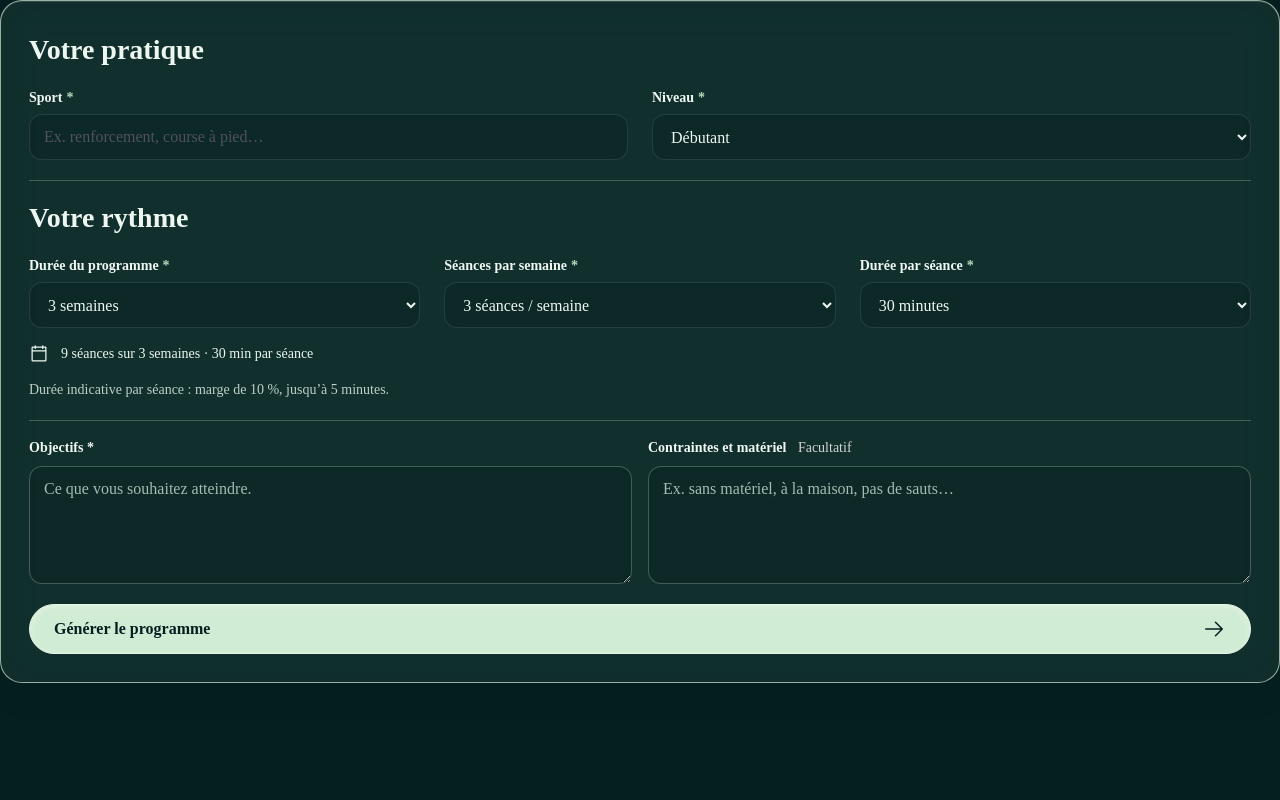
it: formulaires metier › affiche l erreur metier renvoyee pendant une generation de programme
The width and height of the screenshot is (1280, 800).
Click the button "Générer le programme" at (132, 628), box top-left (29, 604), bottom-right (1251, 654)
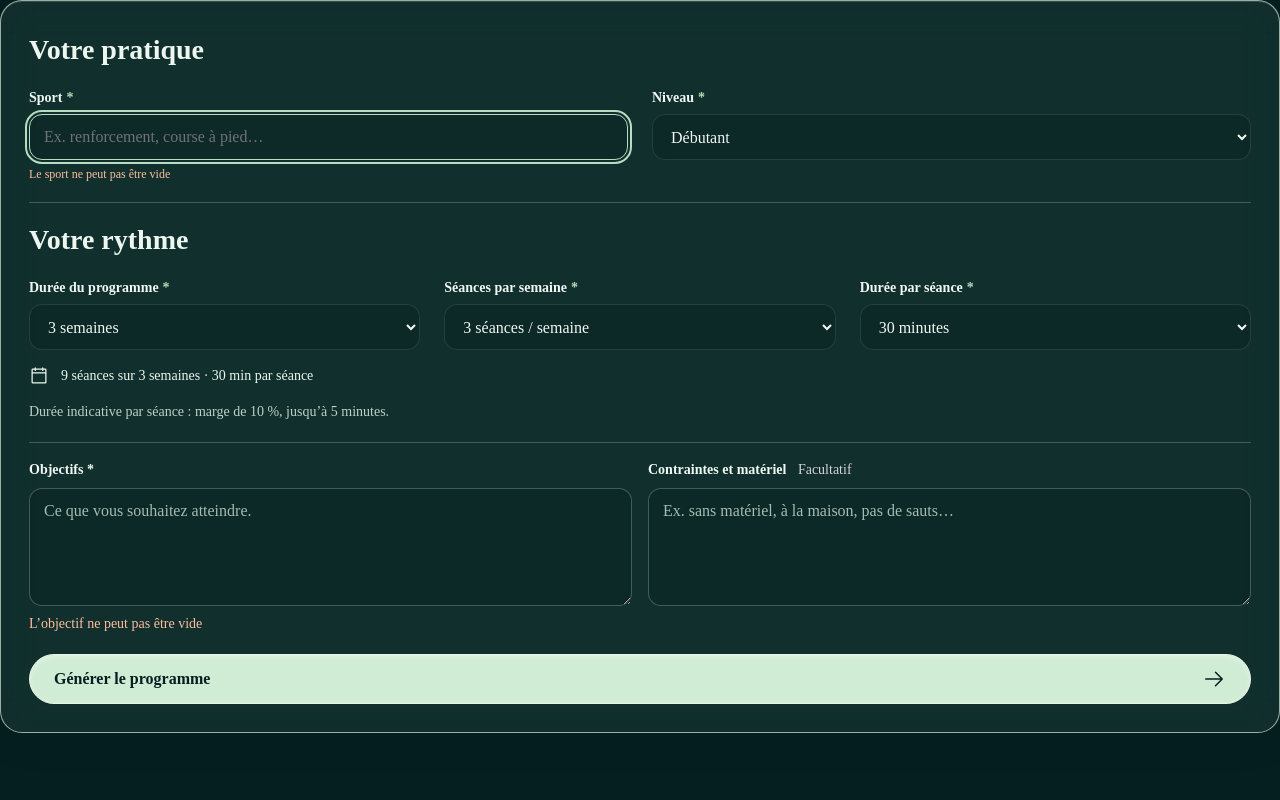
Type "natation" into the field labelled "Sport*" at (328, 137), box top-left (29, 114), bottom-right (628, 160)
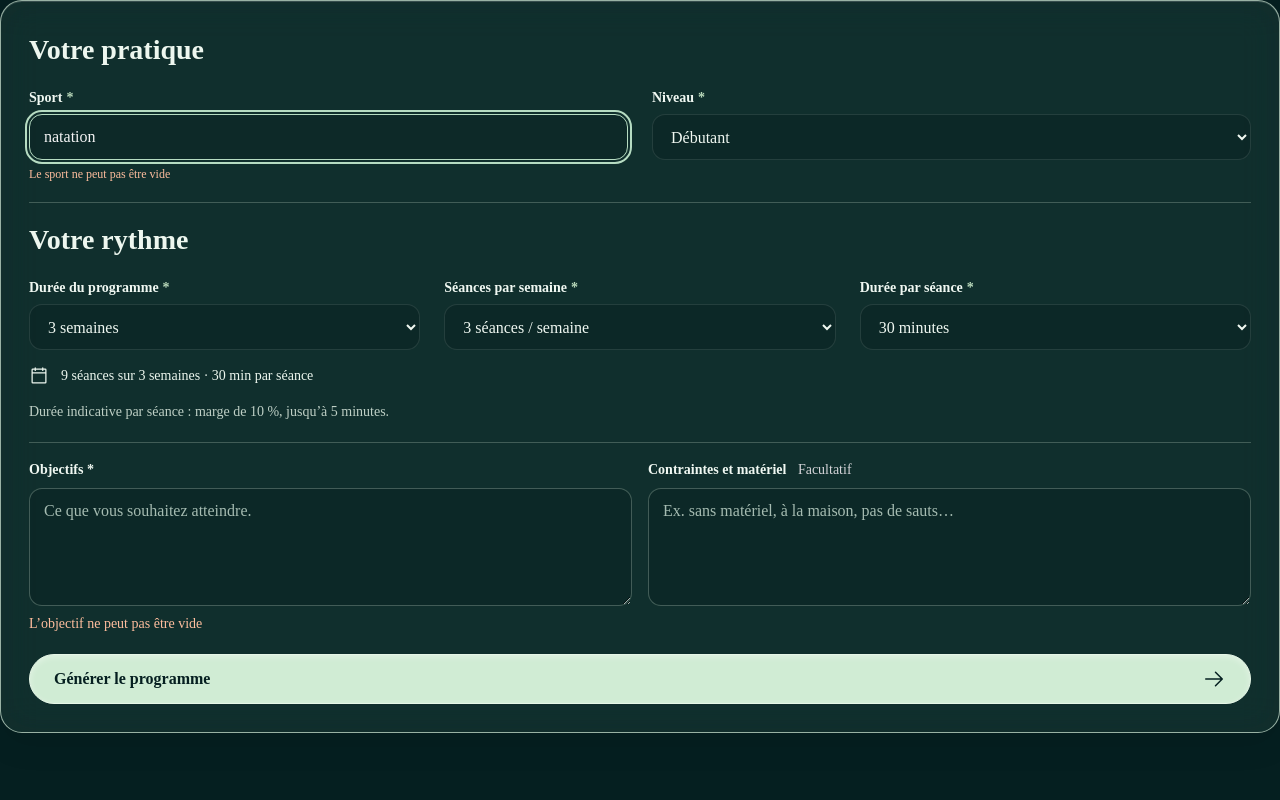
Type "Preparer une competition" into the text box labelled "Objectifs *" at (330, 547), box top-left (29, 488), bottom-right (632, 606)
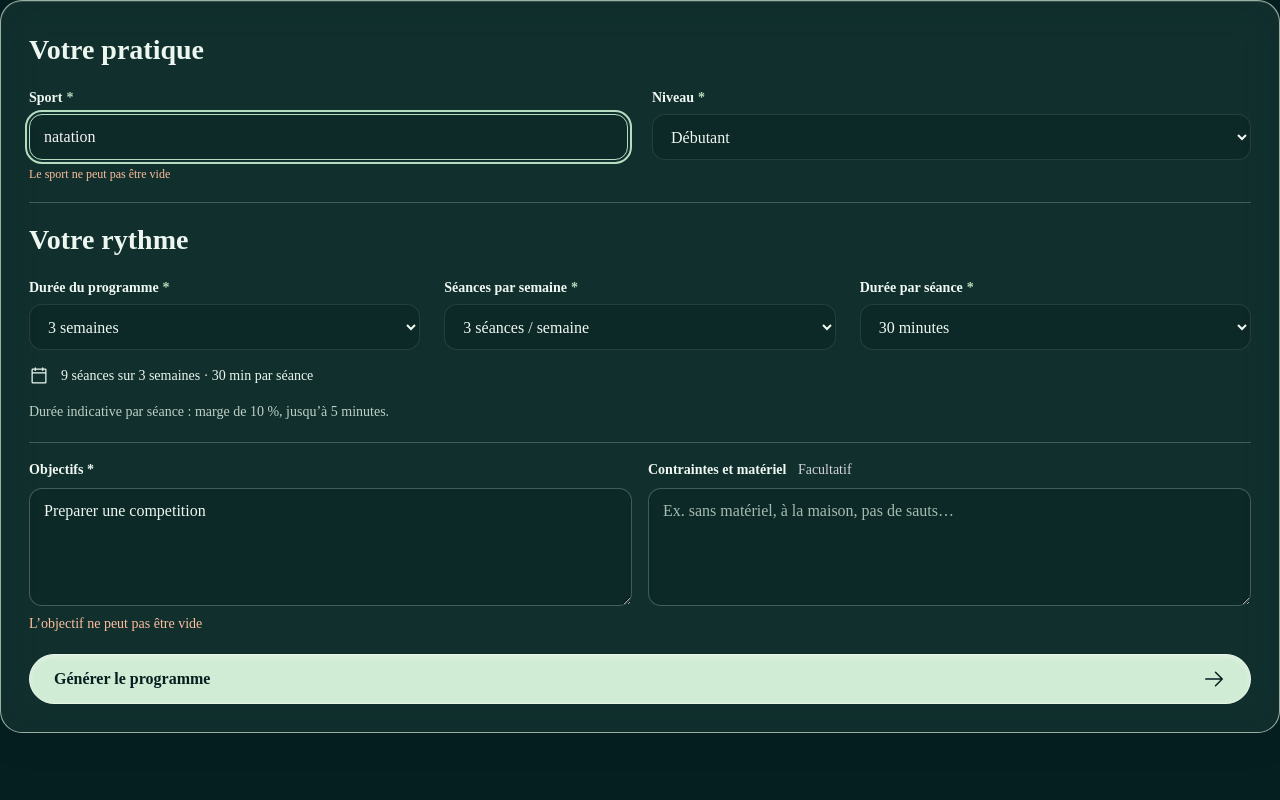
Click the button "Générer le programme" at (132, 678), box top-left (29, 654), bottom-right (1251, 704)
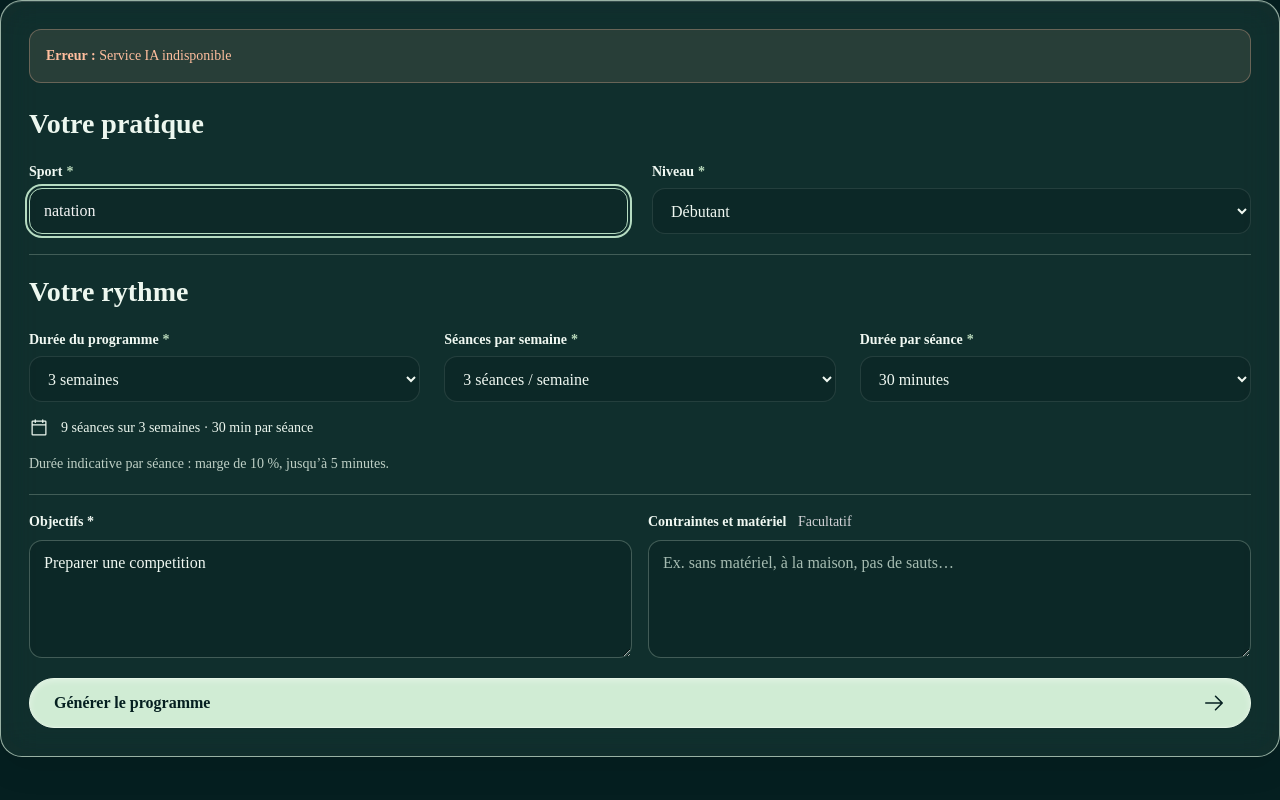
Now the message shows "Service IA indisponible", box top-left (99, 48), bottom-right (231, 63)
